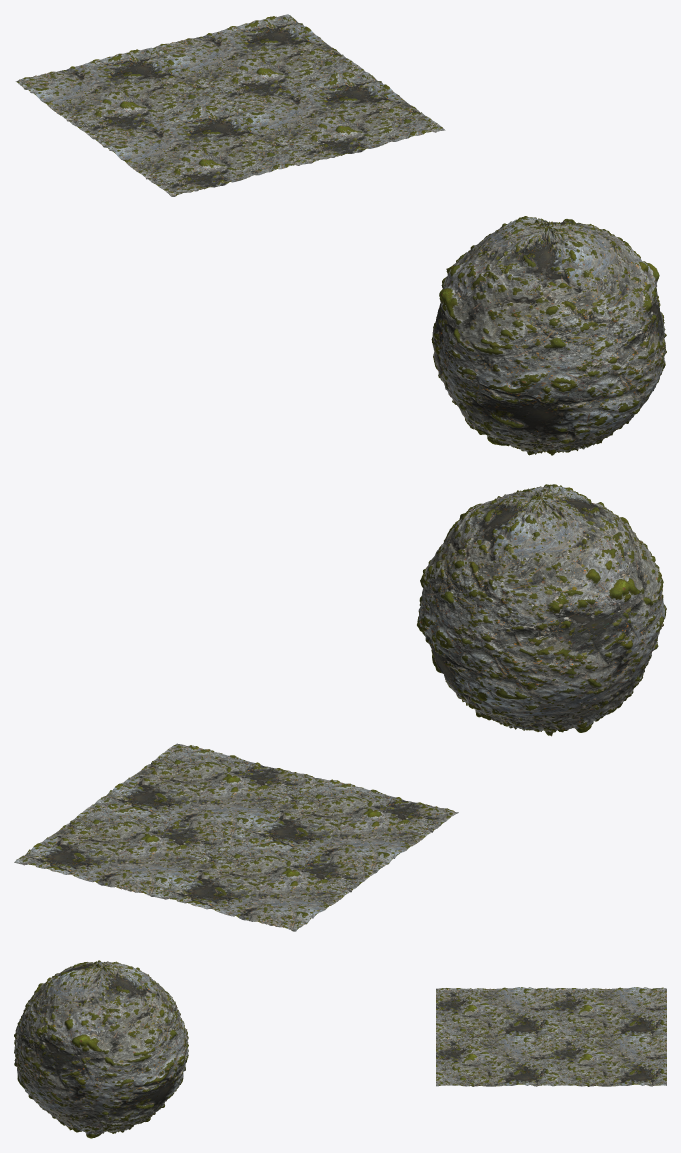
File: stone_oxy_moss_water.FBX
3 views of the same model, one above another, from view 1: azimuth 30°, elevation 25°; view 2: azimuth 150°, elevation 25°; view 3: azimuth 270°, elevation 25° (orthographic). The views are drawn at different scales.
Parts seen in each view (by area): view 1: stone_oxy_moss_water, Plane001; view 2: stone_oxy_moss_water, Plane001; view 3: stone_oxy_moss_water, Plane001.
Boxes of the visible parts, x1,y1,x2,y2 form: stone_oxy_moss_water: (431, 216, 666, 455); Plane001: (15, 14, 445, 196); stone_oxy_moss_water: (417, 484, 666, 736); Plane001: (14, 743, 458, 931); stone_oxy_moss_water: (14, 960, 188, 1138); Plane001: (436, 987, 666, 1086).
Bounding box in the file's own units: 200 × 156 × 565.
